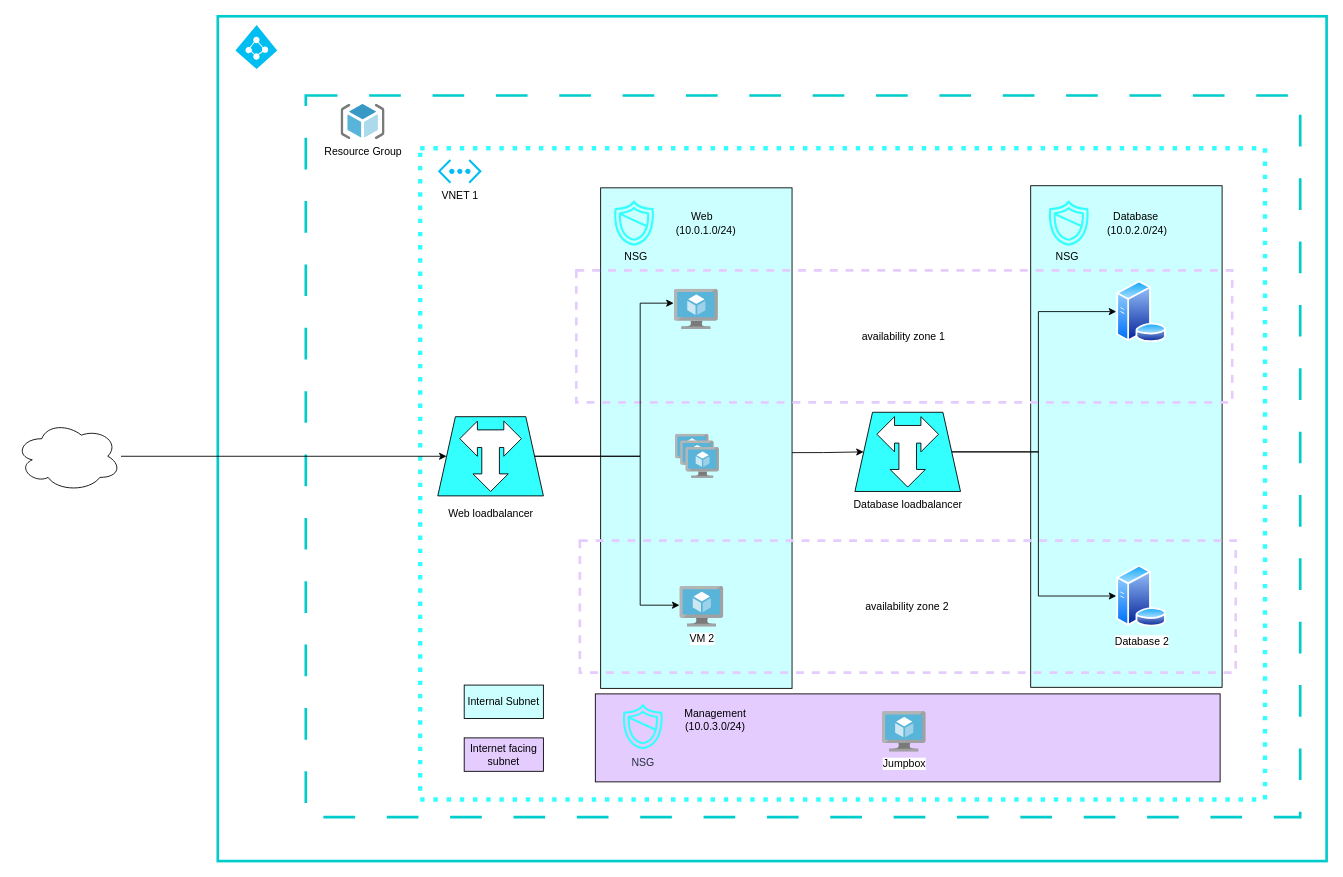
This 1343x877 diagram has some shape labels left out. The shapes that lost their labels are listed below. From the top down, each one's centre as x and y in pixels, then its label:
At [256,47]: "Azure".
At [696,309]: "VM 1".
At [1141,311]: "Database 1".
At [68,455]: "Internet".
At [697,456]: "VM Scale Sets".
